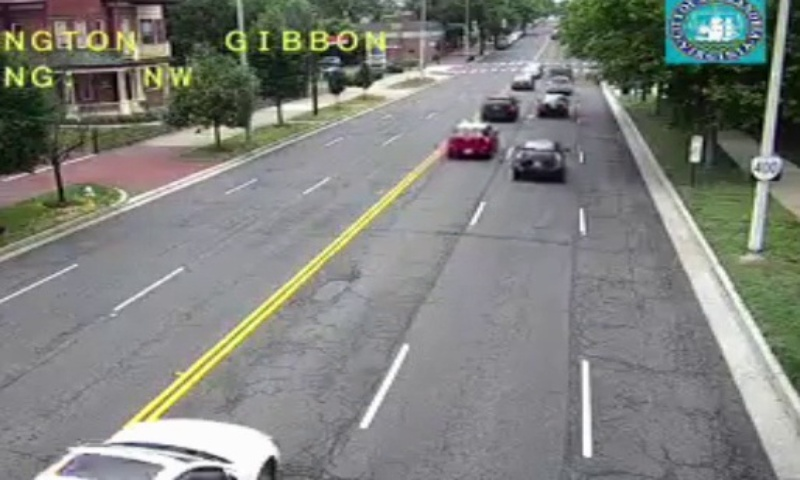car: (513, 139, 563, 176), (446, 124, 496, 159), (480, 97, 516, 120), (535, 93, 569, 117)
